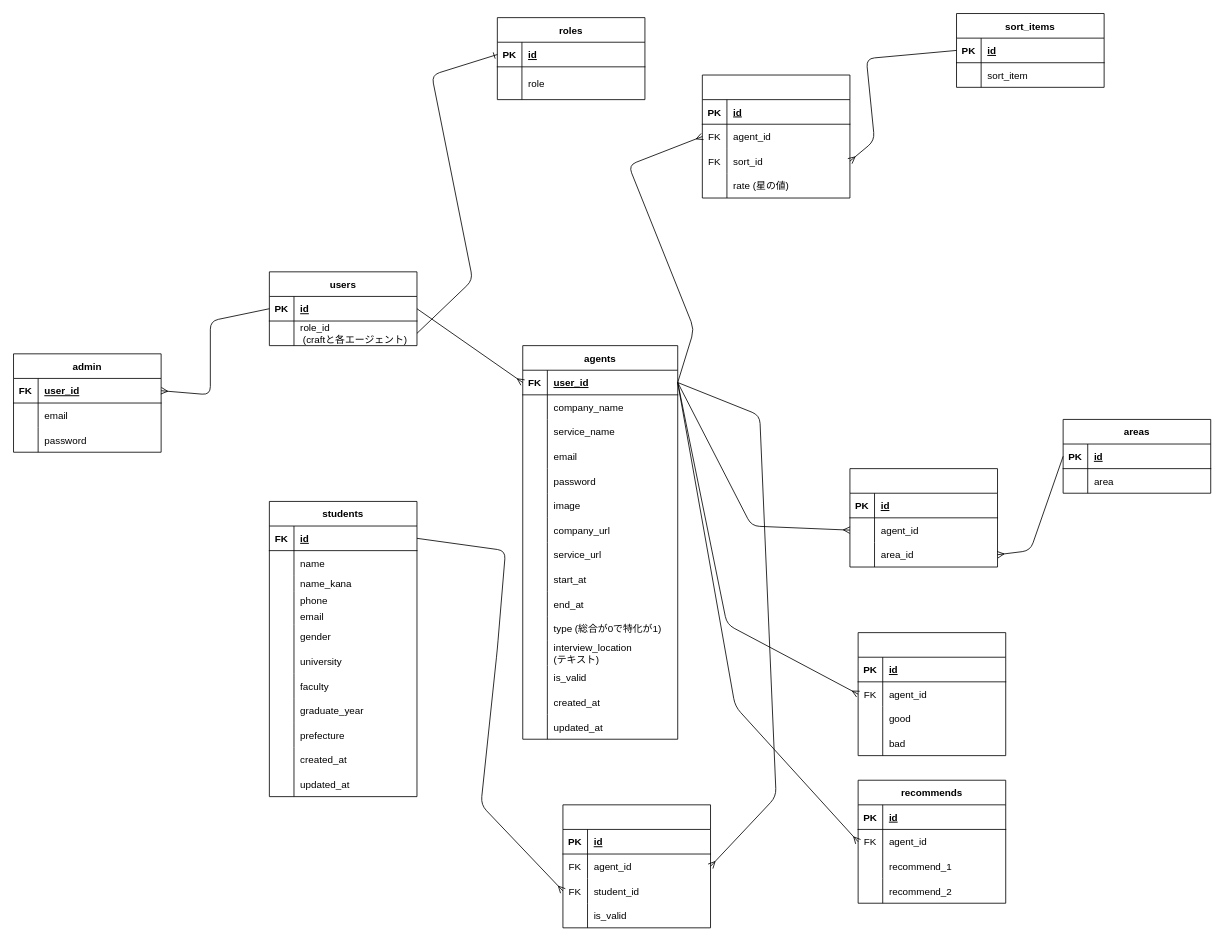
Image size: 1224x941. Some labels were removed from this diagram. Each missing label, with the box of its shape:
agent_details: (857, 632, 1006, 756)
agents_areas: (849, 468, 998, 567)
agents_items: (702, 74, 850, 198)
agents_students: (562, 804, 711, 928)
